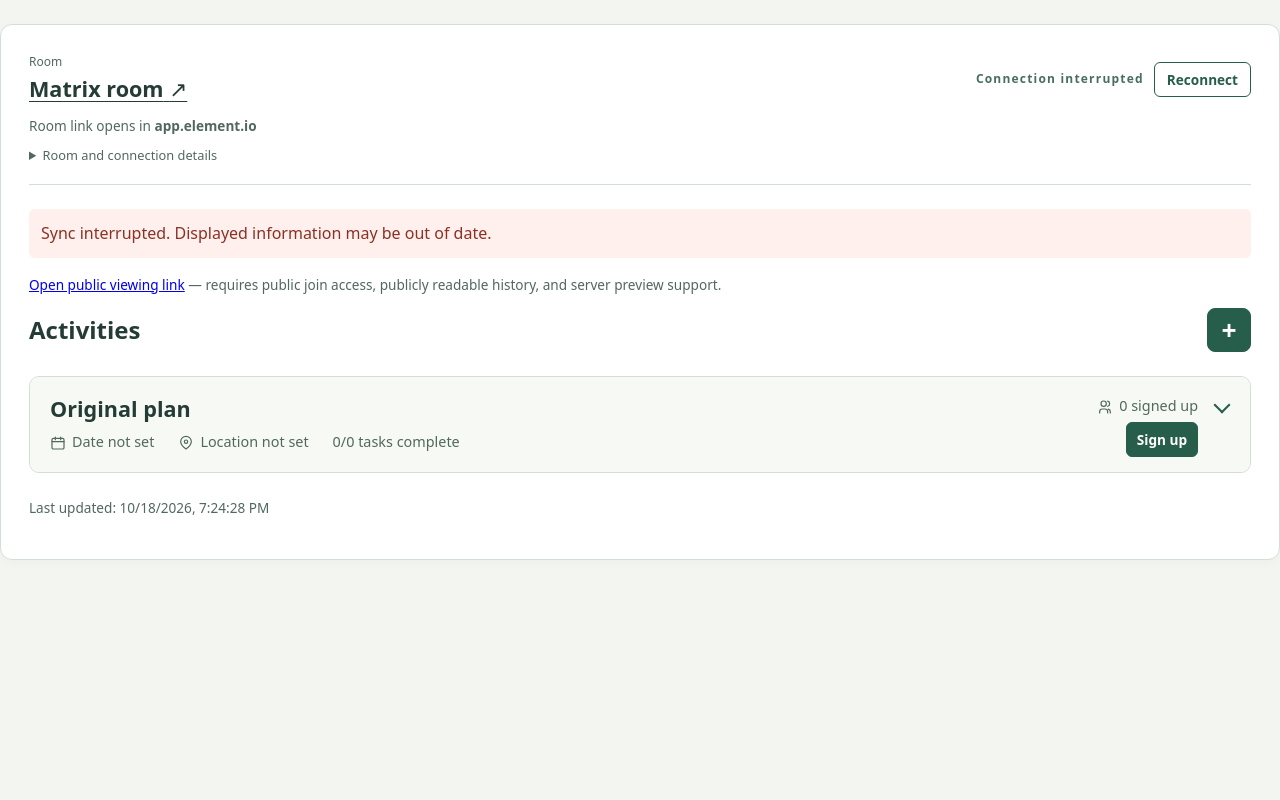
shows a reconnect button when sync is interrupted
What coordinates should you click on to do the following:
click the button "Reconnect"
I would click on:
 (1202, 79)
Its box is top-left (1154, 62), bottom-right (1251, 97).
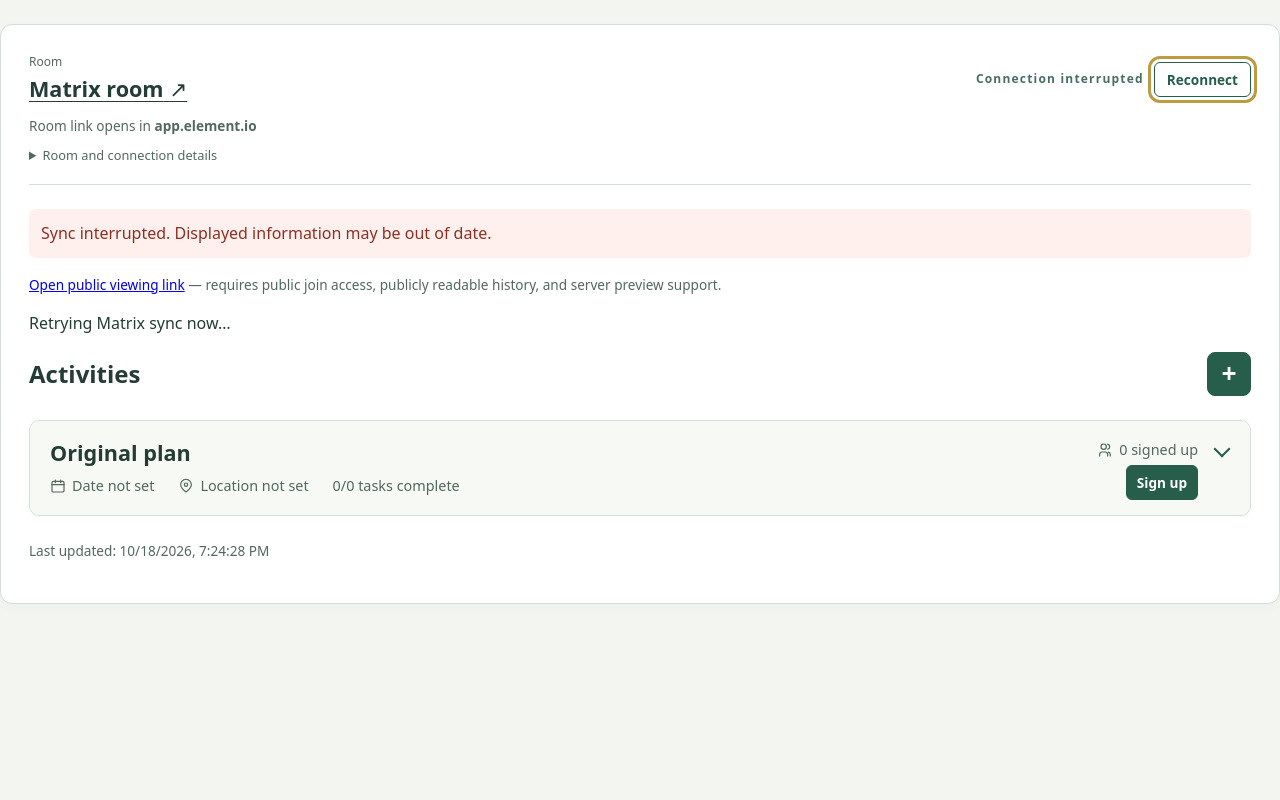
Expected: the text "Retrying Matrix sync now…" is shown, top-left (29, 312), bottom-right (231, 334)
